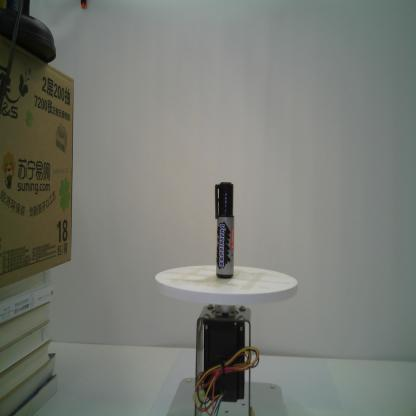Stationery: (214, 182, 235, 279)
